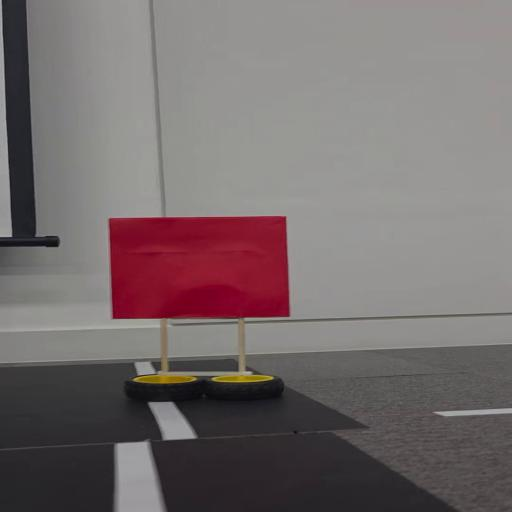Sign_A: (106, 204, 301, 400)
